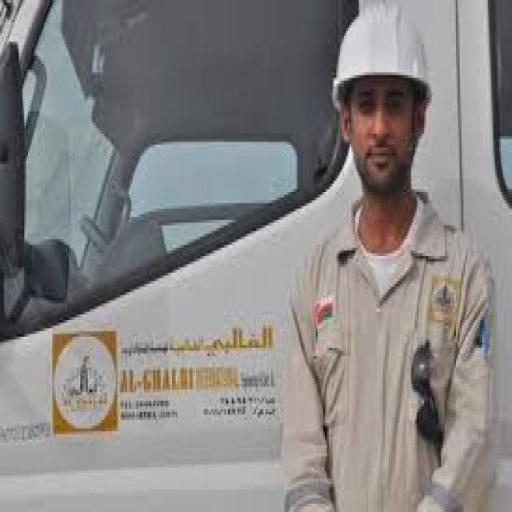helmet: (327, 3, 448, 108)
